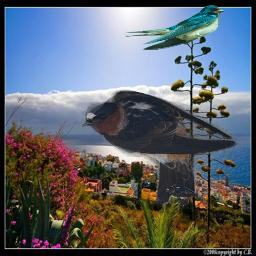Swallow: (81, 88, 239, 205), (123, 5, 224, 51), (166, 184, 197, 207)
